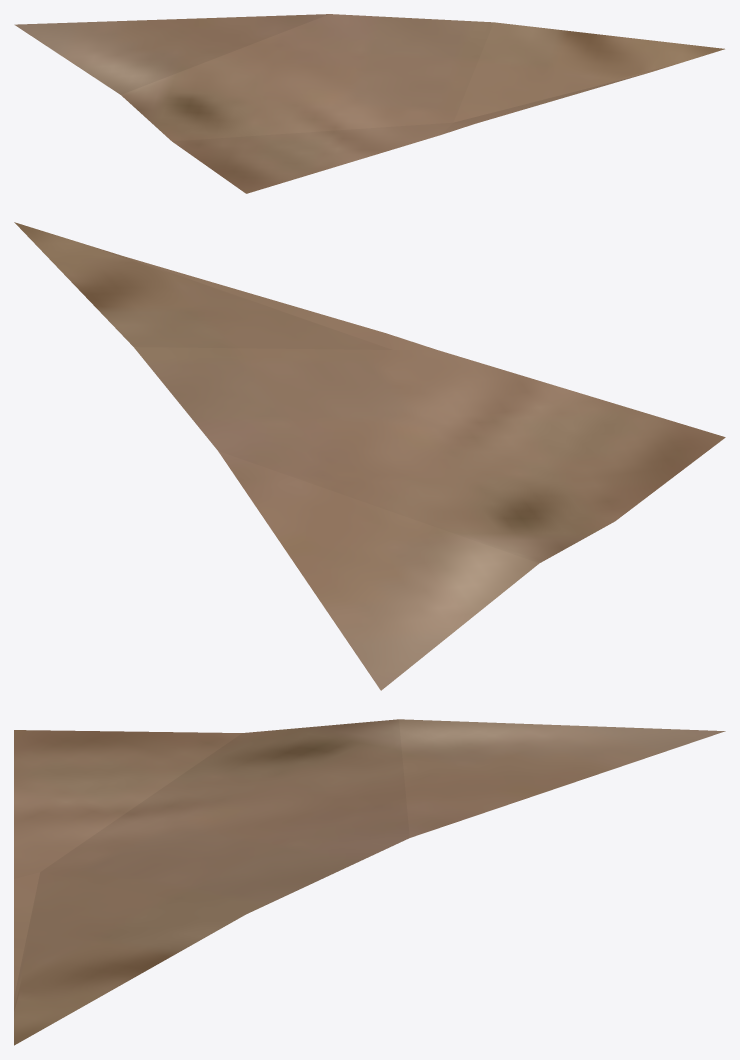
3 views of the same model, one above another, from view 1: azimuth 30°, elevation 25°; view 2: azimuth 150°, elevation 25°; view 3: azimuth 270°, elevation 25° (orthographic). The views are drawn at different scales.
Bounding box in the file's own units: 0.3763 × 0.0295 × 0.3158.
1 material, 1 textured.
